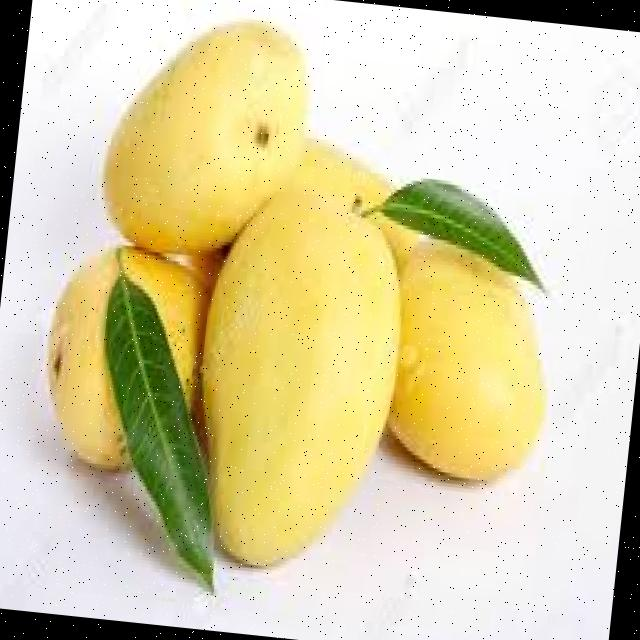mango: (200, 188, 402, 572)
